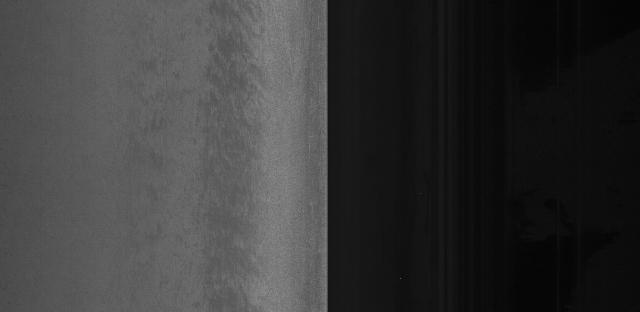silk_spot: (191, 45, 290, 225)
